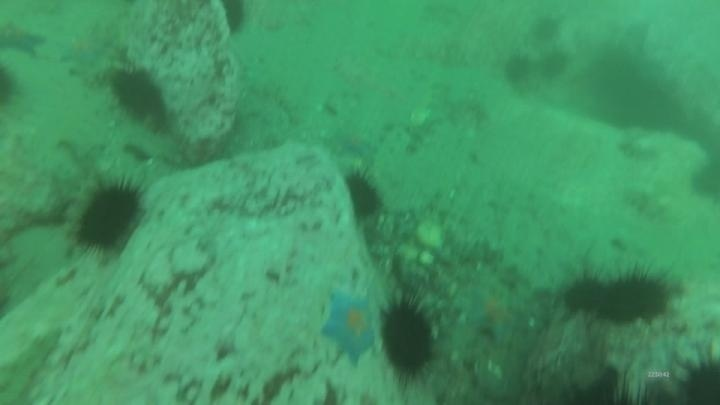echinus: (71, 178, 146, 255), (377, 296, 438, 382), (595, 266, 673, 327), (107, 64, 169, 124), (576, 365, 670, 404), (666, 344, 720, 405), (342, 169, 385, 222), (561, 273, 609, 317), (688, 158, 720, 205), (218, 1, 250, 38), (501, 52, 533, 87), (538, 48, 571, 81), (529, 14, 563, 44), (1, 64, 22, 110)
holothurian: (436, 204, 505, 267), (615, 136, 661, 164)
starfish: (318, 290, 379, 366), (464, 286, 524, 345), (56, 30, 110, 69), (1, 19, 48, 60), (328, 125, 378, 160)
